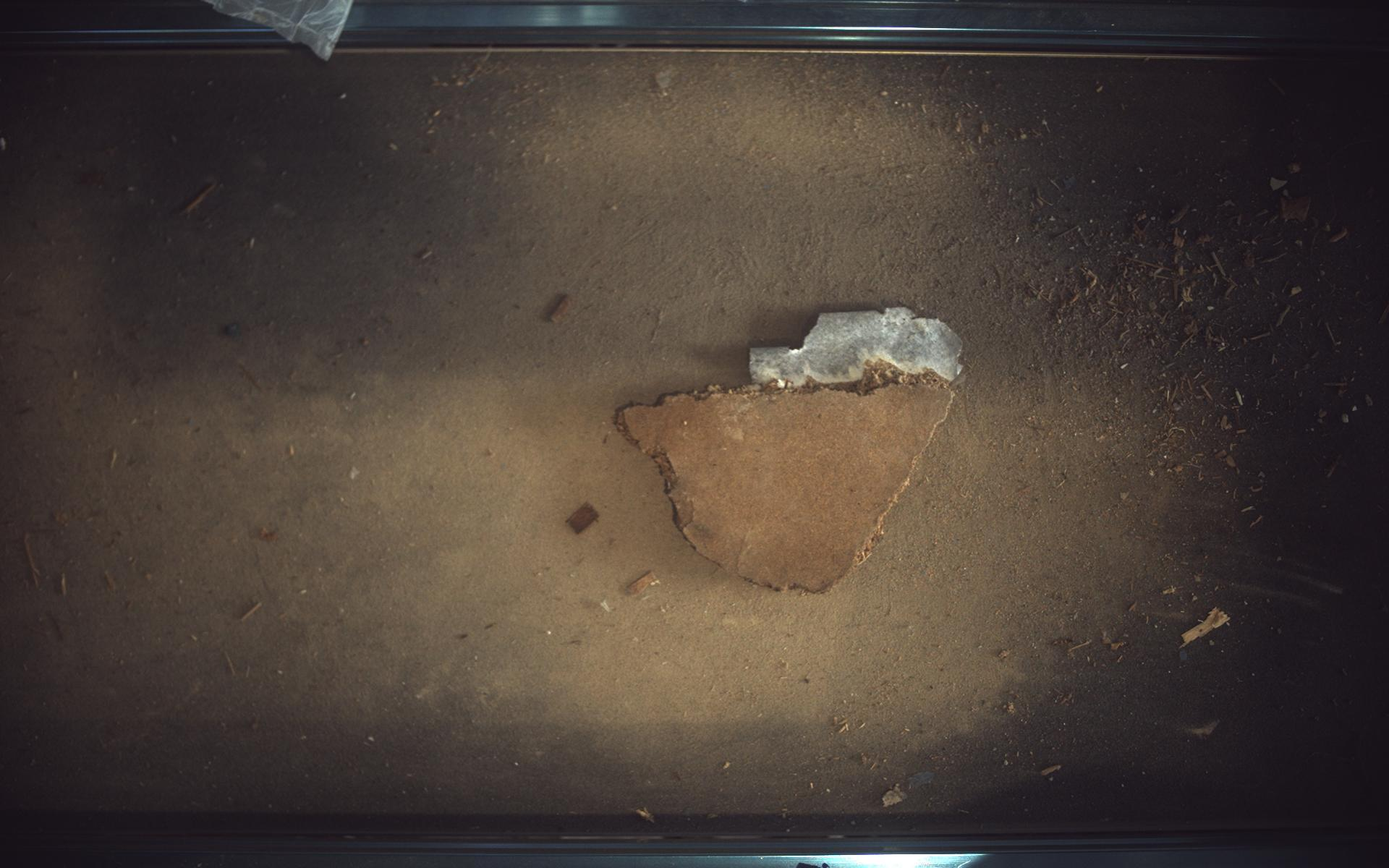wood: (617, 307, 964, 592)
